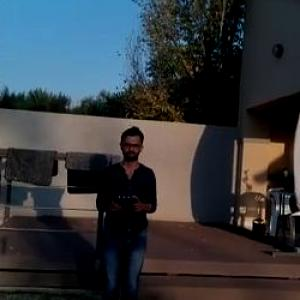follow: (89, 120, 164, 299)
